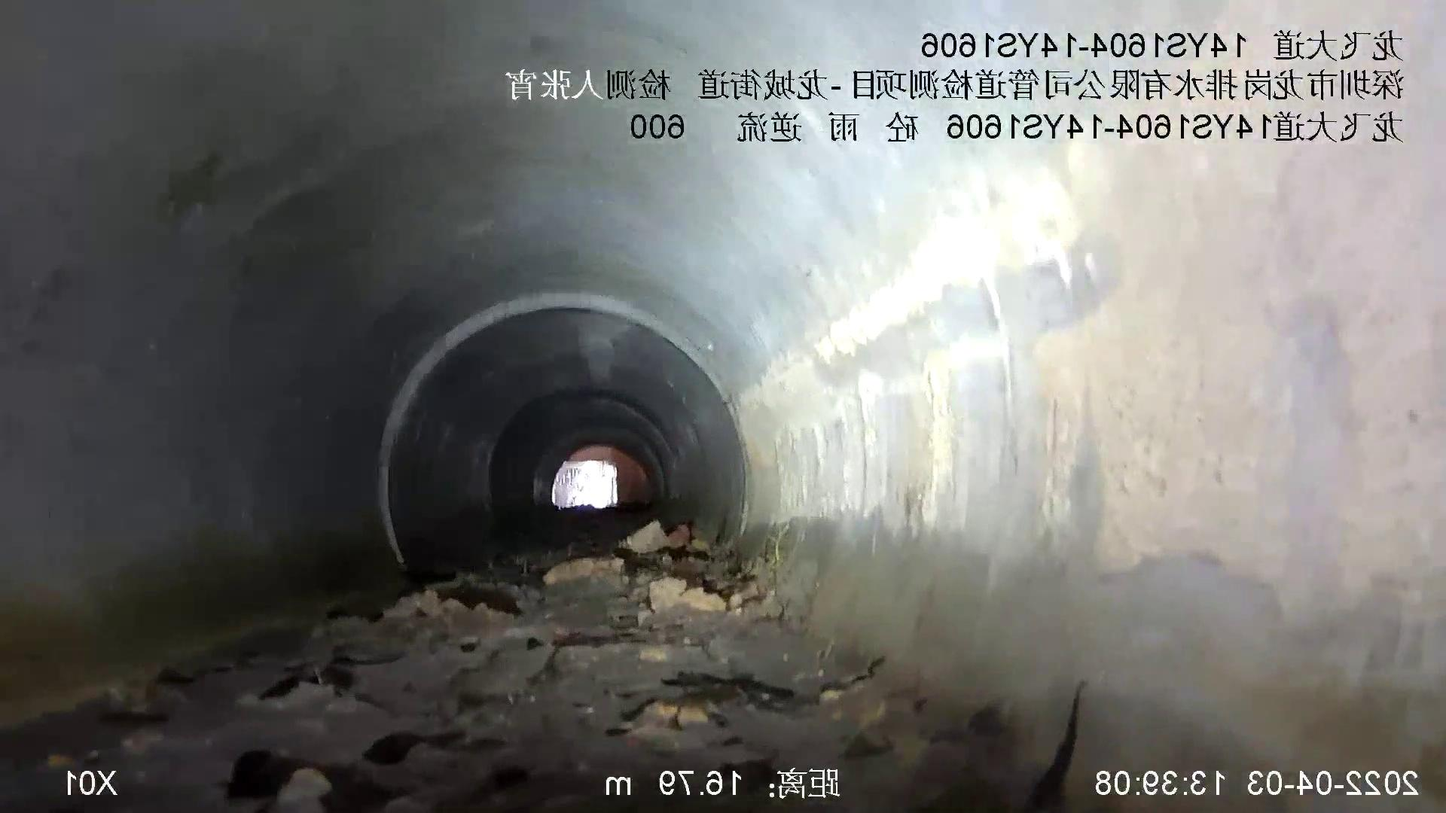CJ: (1, 510, 1023, 812)
CKTJ: (368, 288, 755, 571)
